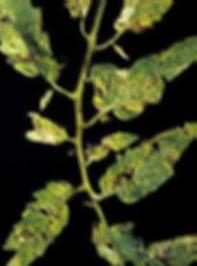Tomato Septoria leaf spot: (88, 29, 197, 120), (106, 118, 197, 200), (0, 0, 64, 90), (6, 185, 74, 266), (98, 211, 197, 266), (117, 0, 197, 35), (24, 112, 73, 146), (91, 125, 134, 160)
